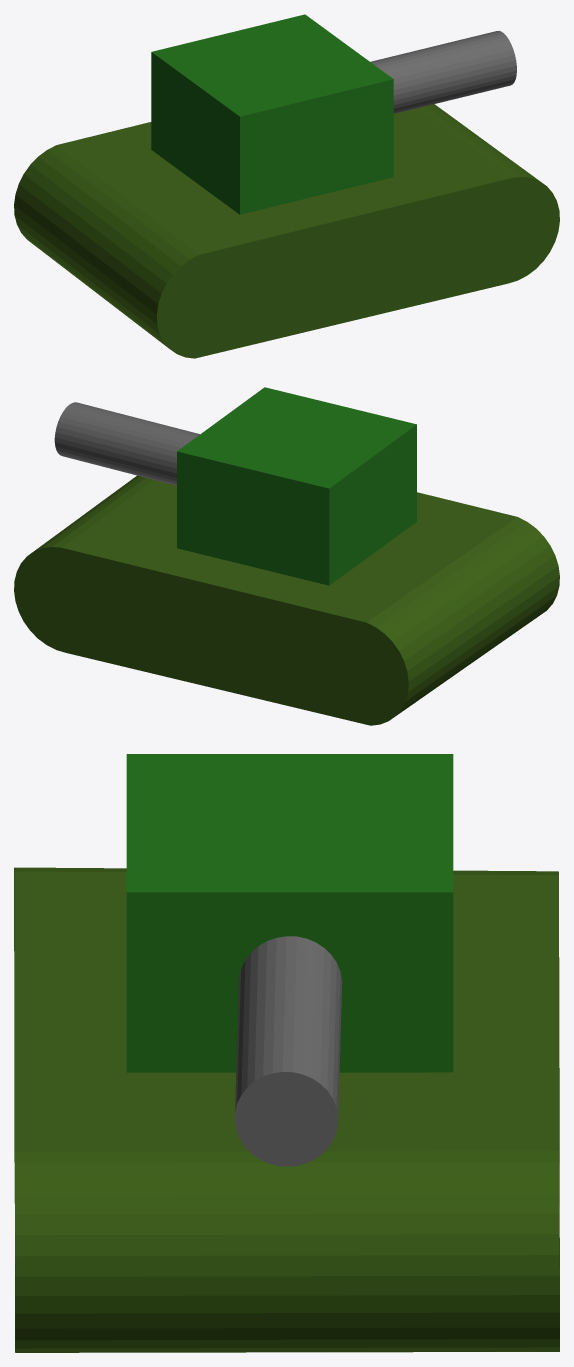
The model's file is RealPlayertank.fbx.
The picture shows the model from 3 angles, top to bottom: view 1: azimuth 30°, elevation 25°; view 2: azimuth 150°, elevation 25°; view 3: azimuth 270°, elevation 25°; orthographic projection. The views are drawn at different scales.
Parts seen in each view (by area): view 1: Tank; view 2: Tank; view 3: Tank.
Part boxes in pixels (x1,y1,x2,y2): Tank: (14, 14, 559, 358); Tank: (14, 387, 559, 725); Tank: (14, 754, 559, 1352).
Size of the model in its own units: 841 by 386 by 511.
